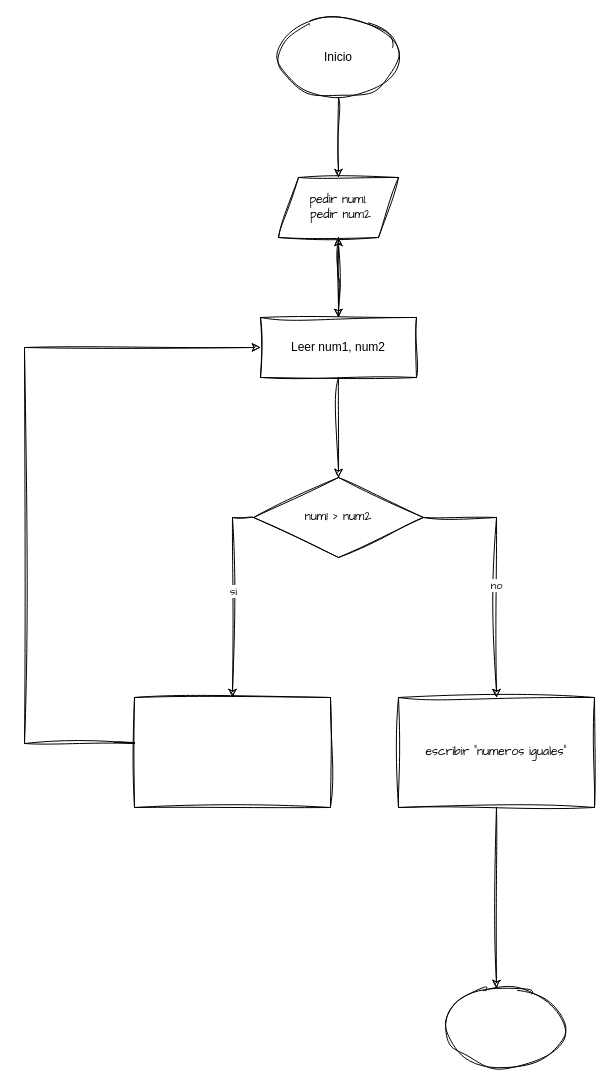
Some shapes in this 612 by 1085 pixel diagram are drawn without their labels. The box of each missing label's shape, as (x1, y1, x2, y2) in pixels:
escribir "numeros diferentes": (134, 696, 330, 808)
FIN: (444, 986, 564, 1068)
